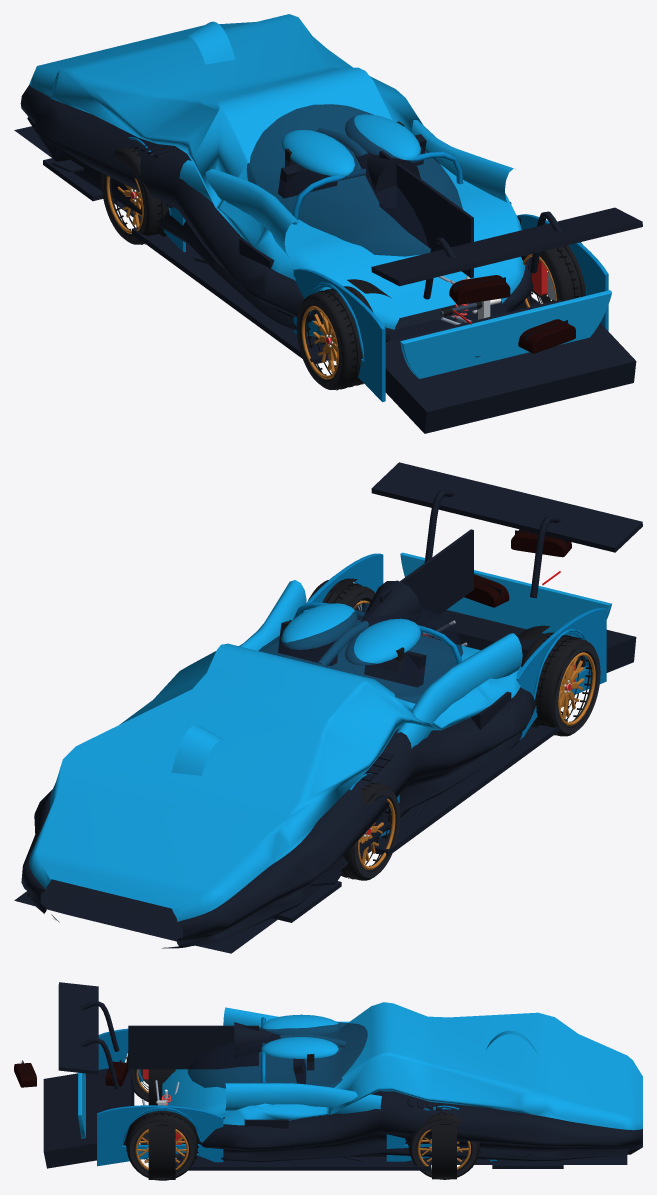
File: hypercar_apex_gt3.glb
3 views of the same model, one above another, from view 1: azimuth 30°, elevation 25°; view 2: azimuth 150°, elevation 25°; view 3: azimuth 270°, elevation 25° (orthographic). The views are drawn at different scales.
Visible parts, largest first — view 1: Body_Upper_Shell_Paint, Body_Lower_Diffuser_Carbon, Rear_Venturi_Diffuser_Main, Teardrop_Cockpit_Canopy_Glass, Rear_Fascia_And_Venturi_Deck, Swan_Neck_Active_Rear_Wing, Tire_Seamless_Radial_Casing (×3), Double_Bubble_Roof_Assembly, Aero_Stabilizer_Shark_Fin, Rear_Fender_LH, Flank_LH, Side_Skirt_Aero_Blade_LH (+14 smaller); view 2: Body_Upper_Shell_Paint, Body_Lower_Diffuser_Carbon, Swan_Neck_Active_Rear_Wing, Teardrop_Cockpit_Canopy_Glass, Double_Bubble_Roof_Assembly, Rear_Fascia_And_Venturi_Deck, Flank_LH, Body_Flat_Floor_Carbon, Tire_Seamless_Radial_Casing (×2), Aero_Stabilizer_Shark_Fin, Side_Skirt_Aero_Blade_LH, Rear_Venturi_Diffuser_Main (+13 smaller); view 3: Body_Upper_Shell_Paint, Body_Lower_Diffuser_Carbon, Teardrop_Cockpit_Canopy_Glass, Rear_Venturi_Diffuser_Main, Rear_Fender_RH, Aero_Stabilizer_Shark_Fin, Swan_Neck_Active_Rear_Wing, Flank_RH, Double_Bubble_Roof_Assembly, Side_Skirt_Aero_Blade_RH, Tire_Seamless_Radial_Casing (×2), Front_Fender_RH (+14 smaller).
Boxes of the visible parts, x1,y1,x2,y2 form: Body_Upper_Shell_Paint: [29, 14, 525, 329]; Body_Lower_Diffuser_Carbon: [20, 85, 533, 341]; Rear_Venturi_Diffuser_Main: [385, 300, 636, 433]; Teardrop_Cockpit_Canopy_Glass: [246, 104, 462, 256]; Rear_Fascia_And_Venturi_Deck: [400, 290, 611, 378]; Swan_Neck_Active_Rear_Wing: [371, 207, 642, 286]; Tire_Seamless_Radial_Casing (×3): [104, 147, 585, 389]; Double_Bubble_Roof_Assembly: [281, 114, 420, 176]; Aero_Stabilizer_Shark_Fin: [379, 150, 473, 277]; Rear_Fender_LH: [293, 268, 391, 402]; Flank_LH: [179, 160, 299, 269]; Side_Skirt_Aero_Blade_LH: [132, 227, 326, 363]; Body_Upper_Shell_Paint: [29, 609, 521, 921]; Body_Lower_Diffuser_Carbon: [21, 687, 536, 948]; Swan_Neck_Active_Rear_Wing: [371, 462, 642, 552]; Teardrop_Cockpit_Canopy_Glass: [258, 602, 462, 703]; Double_Bubble_Roof_Assembly: [281, 603, 420, 667]; Rear_Fascia_And_Venturi_Deck: [400, 552, 611, 637]; Flank_LH: [397, 633, 522, 817]; Body_Flat_Floor_Carbon: [14, 726, 535, 953]; Tire_Seamless_Radial_Casing (×2): [339, 632, 597, 880]; Aero_Stabilizer_Shark_Fin: [379, 529, 473, 626]; Side_Skirt_Aero_Blade_LH: [374, 719, 567, 856]; Rear_Venturi_Diffuser_Main: [366, 610, 636, 672]; Body_Upper_Shell_Paint: [162, 1002, 642, 1130]; Body_Lower_Diffuser_Carbon: [183, 1091, 642, 1162]; Teardrop_Cockpit_Canopy_Glass: [187, 1022, 367, 1088]; Rear_Venturi_Diffuser_Main: [43, 1068, 134, 1168]; Rear_Fender_RH: [97, 1105, 223, 1179]; Aero_Stabilizer_Shark_Fin: [128, 1025, 258, 1069]; Swan_Neck_Active_Rear_Wing: [58, 982, 98, 1074]; Flank_RH: [223, 1083, 381, 1161]; Double_Bubble_Roof_Assembly: [261, 1014, 345, 1058]; Side_Skirt_Aero_Blade_RH: [175, 1161, 431, 1170]; Tire_Seamless_Radial_Casing (×2): [126, 1112, 479, 1180]; Front_Fender_RH: [386, 1105, 496, 1179].
Bounding box in the file's own units: 2.25 × 1.3 × 6.02.
